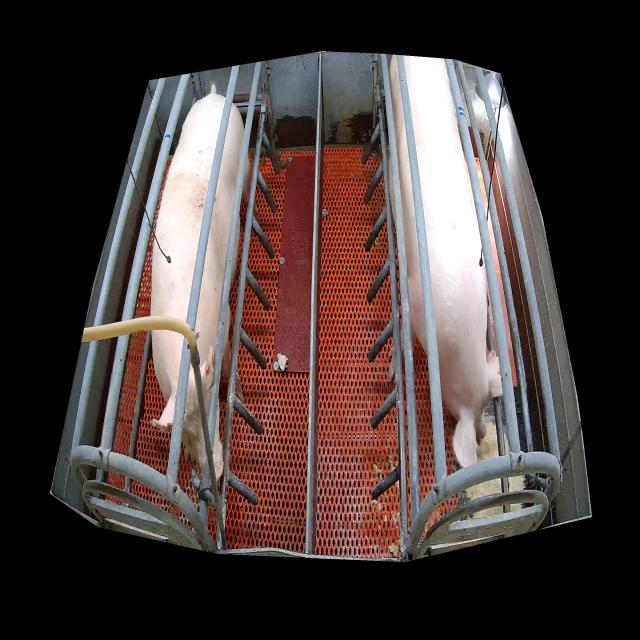pig: (390, 57, 503, 469), (151, 95, 251, 486)
